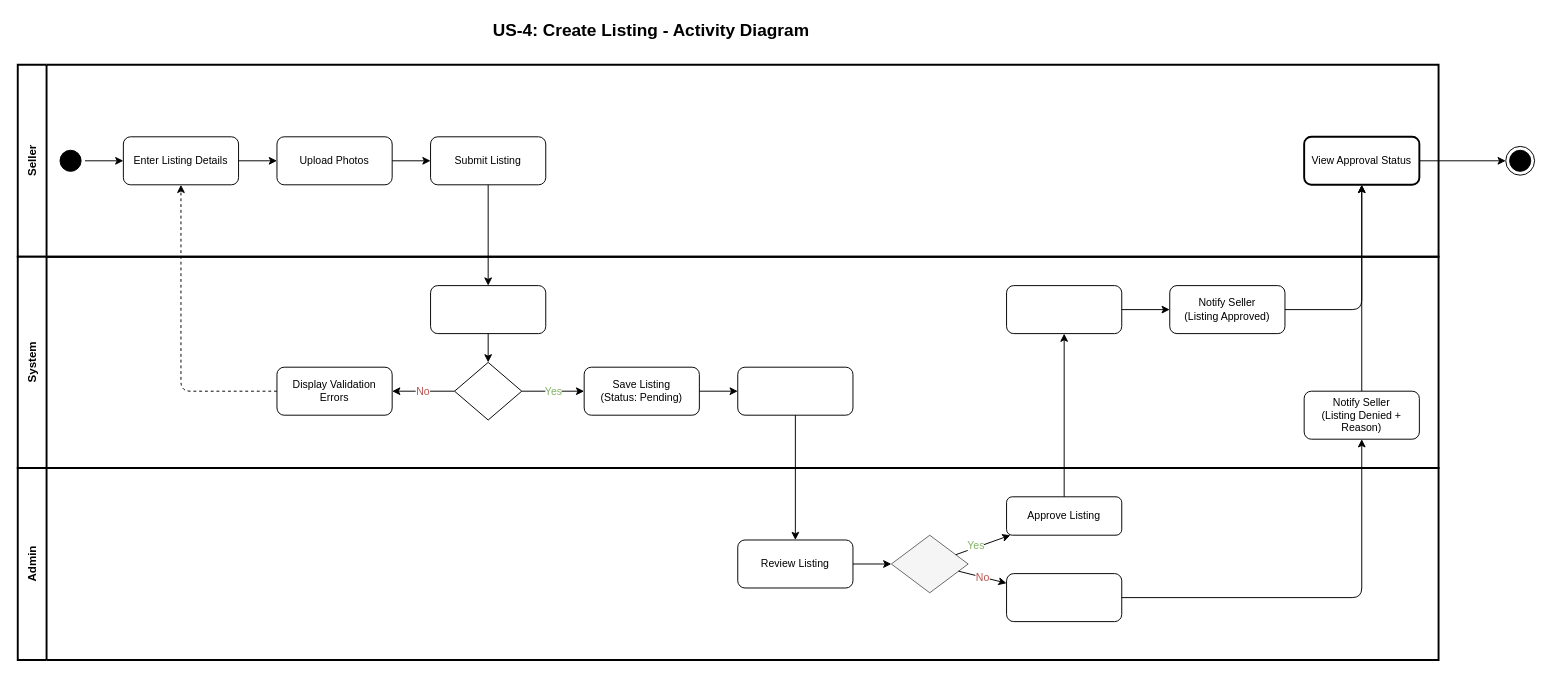
This 1551x677 diagram has some shape labels left out. The shapes that lost their labels are listed below. From the top down, each one's centre as x and y in pixels, then its label:
At point (488, 309): "Validate Input".
At point (1064, 309): "Publish Listing (Status: Active)".
At point (488, 390): "Valid?".
At point (795, 390): "Notify Admin (New Listing to Review)".
At point (929, 563): "Approve?".
At point (1064, 597): "Deny Listing (Enter Reason)".
